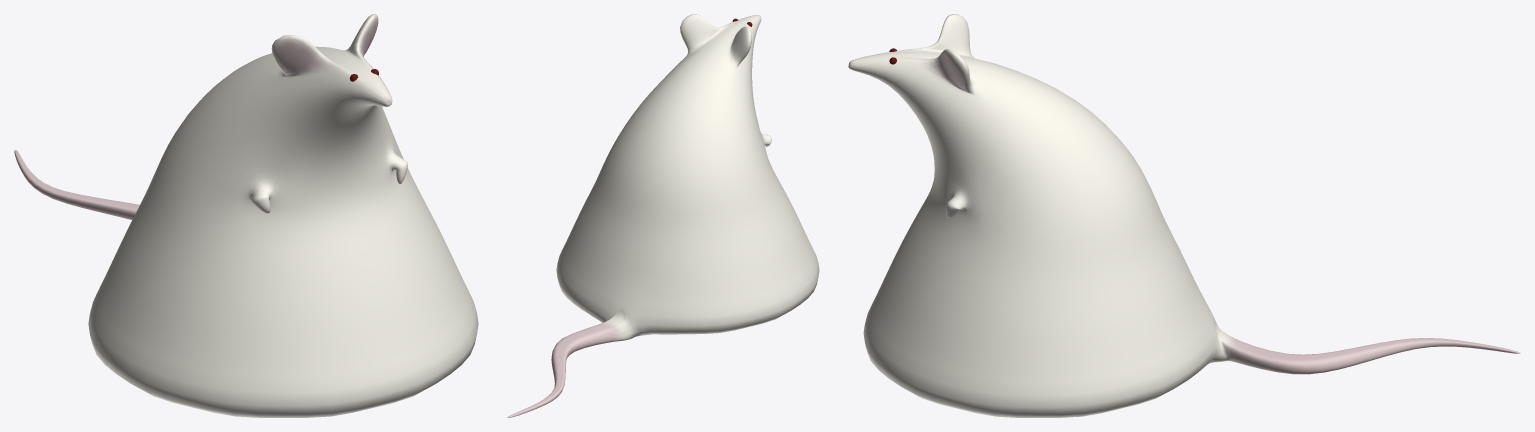
3 views of the same model, side by side, from view 1: azimuth 30°, elevation 25°; view 2: azimuth 150°, elevation 25°; view 3: azimuth 270°, elevation 25° (orthographic). The views are drawn at different scales.
Parts seen in each view (by area): view 1: Ret; view 2: Ret; view 3: Ret.
Boxes of the visible parts, <box> form: Ret: <box>14,14,478,417</box>; Ret: <box>507,14,819,417</box>; Ret: <box>848,14,1520,417</box>.
Bounding box in the file's own units: 1076 × 1094 × 2059.
Materials: 1 (1 with a texture image).
